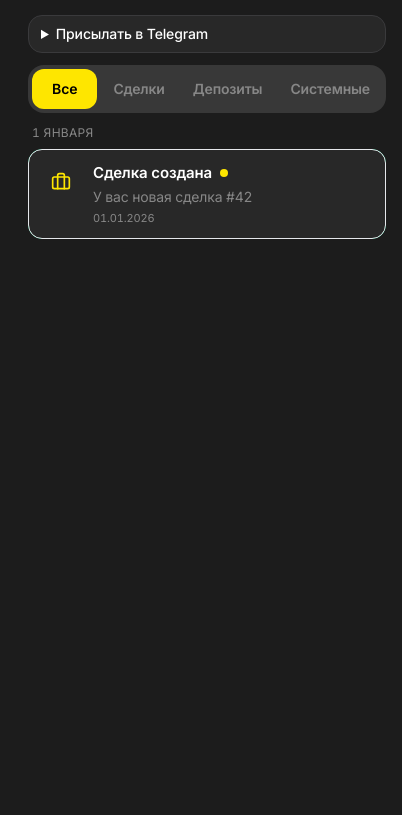
Test case: <NotificationsPage /> › clicking a notification row navigates to /notifications/<id>
Step 1. Click the text "Сделка создана" → (152, 172), box [93,162,212,183]
(page scrolled)
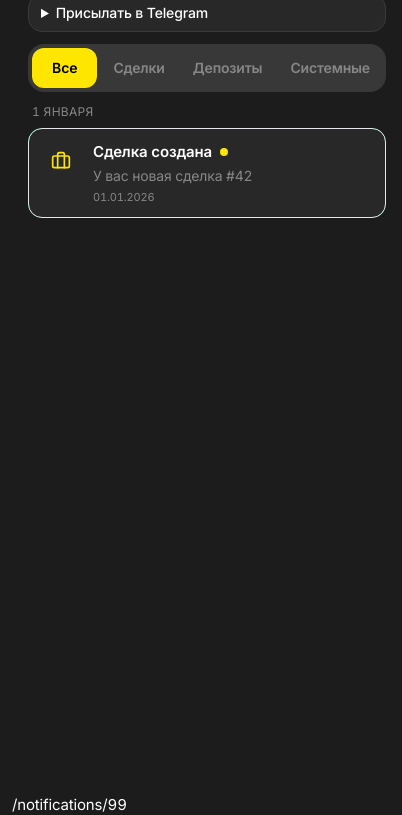
expect the text with test id "path" reads "/notifications/99": met, box [12,795,127,814]
